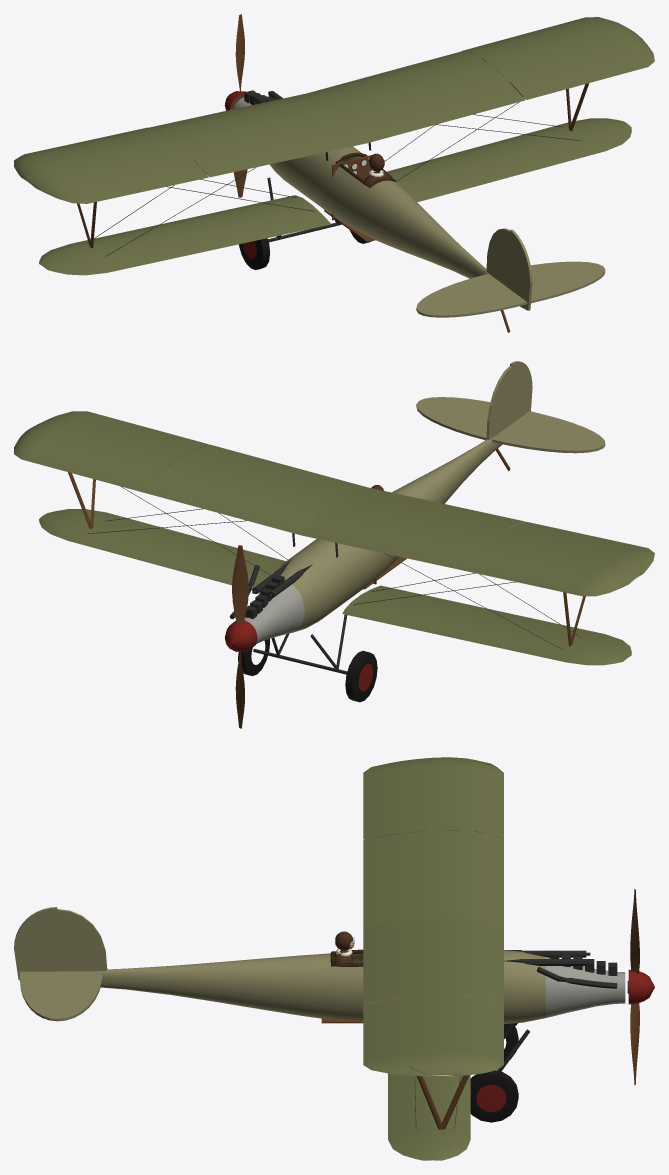
File: albatros_dv.glb
The picture shows the model from 3 angles, top to bottom: view 1: azimuth 30°, elevation 25°; view 2: azimuth 150°, elevation 25°; view 3: azimuth 270°, elevation 25°; orthographic projection. The views are drawn at different scales.
Parts seen in each view (by area): view 1: Wing_Upper_R, Wing_Upper_L, Wing_Lower_L, Fuselage, Wing_Lower_R, Aileron_L, Aileron_R, Elevator, Stabilizer_L, Rudder, Fin, Wires (+6 smaller); view 2: Wing_Upper_R, Wing_Upper_L, Fuselage, Wing_Lower_L, Wing_Lower_R, PropBlades, Elevator, Stabilizer_L, Wheels, Aileron_L, Aileron_R, Stabilizer_R (+7 smaller); view 3: Wing_Upper_L, Wing_Upper_R, Fuselage, Wing_Lower_R, Aileron_R, Aileron_L, Fin, Rudder, Wheels, PropBlades, Stabilizer_R, Elevator (+4 smaller).
Boxes of the visible parts, x1=… form: Wing_Upper_R: x1=306, y1=17, x2=641, y2=142; Wing_Upper_L: x1=14, y1=93, x2=367, y2=186; Wing_Lower_L: x1=39, y1=195, x2=330, y2=275; Fuselage: x1=233, y1=97, x2=490, y2=278; Wing_Lower_R: x1=387, y1=118, x2=631, y2=202; Aileron_L: x1=32, y1=159, x2=208, y2=203; Aileron_R: x1=509, y1=37, x2=654, y2=99; Elevator: x1=418, y1=266, x2=605, y2=317; Stabilizer_L: x1=416, y1=274, x2=509, y2=313; Rudder: x1=510, y1=229, x2=532, y2=310; Fin: x1=486, y1=228, x2=509, y2=288; Wires: x1=87, y1=102, x2=580, y2=256; Wing_Upper_R: x1=14, y1=417, x2=366, y2=535; Wing_Upper_L: x1=302, y1=487, x2=641, y2=596; Fuselage: x1=244, y1=437, x2=502, y2=643; Wing_Lower_L: x1=342, y1=585, x2=631, y2=665; Wing_Lower_R: x1=39, y1=509, x2=285, y2=592; PropBlades: x1=224, y1=545, x2=257, y2=728; Elevator: x1=419, y1=397, x2=605, y2=447; Stabilizer_L: x1=491, y1=423, x2=603, y2=453; Wheels: x1=238, y1=638, x2=377, y2=702; Aileron_L: x1=510, y1=521, x2=654, y2=575; Aileron_R: x1=45, y1=411, x2=208, y2=450; Stabilizer_R: x1=416, y1=401, x2=487, y2=440; Wing_Upper_L: x1=363, y1=757, x2=503, y2=926; Wing_Upper_R: x1=363, y1=917, x2=503, y2=1076; Fuselage: x1=99, y1=950, x2=625, y2=1023; Wing_Lower_R: x1=388, y1=1073, x2=470, y2=1160; Aileron_R: x1=363, y1=998, x2=431, y2=1076; Aileron_L: x1=363, y1=759, x2=411, y2=839; Fin: x1=57, y1=909, x2=107, y2=971; Rudder: x1=14, y1=907, x2=57, y2=980; Wheels: x1=470, y1=1023, x2=518, y2=1122; PropBlades: x1=627, y1=889, x2=654, y2=1085; Stabilizer_R: x1=57, y1=971, x2=102, y2=1021; Elevator: x1=20, y1=971, x2=57, y2=1021.
Size of the model in its own units: 9.05 by 2.71 by 7.75.
